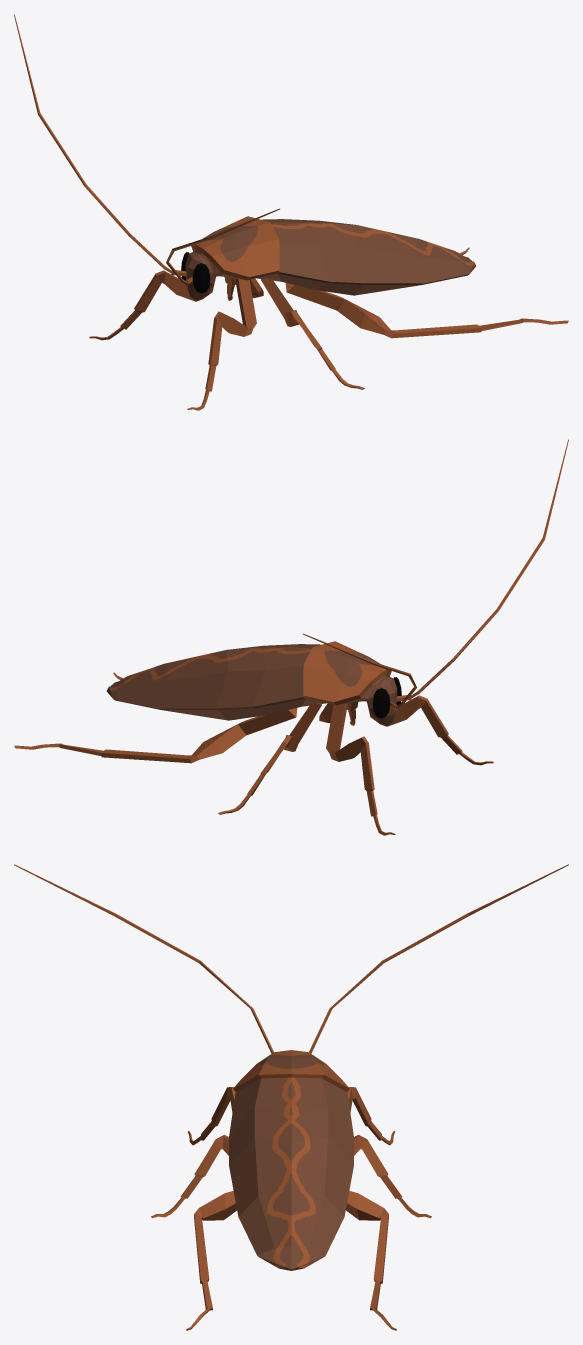
File: cockroach.fbx
3 renders of one model, top to bottom at view 1: azimuth 30°, elevation 25°; view 2: azimuth 150°, elevation 25°; view 3: azimuth 270°, elevation 25°, orthographic. The views are drawn at different scales.
Parts seen in each view (by area): view 1: Cube.004; view 2: Cube.004; view 3: Cube.004.
Boxes of the visible parts, bbox=[...] form: Cube.004: bbox=[14, 14, 568, 410]; Cube.004: bbox=[14, 439, 568, 835]; Cube.004: bbox=[14, 864, 568, 1330].
Size of the model in its own units: 378 by 243 by 439.
Materials: 1 (1 with a texture image).
